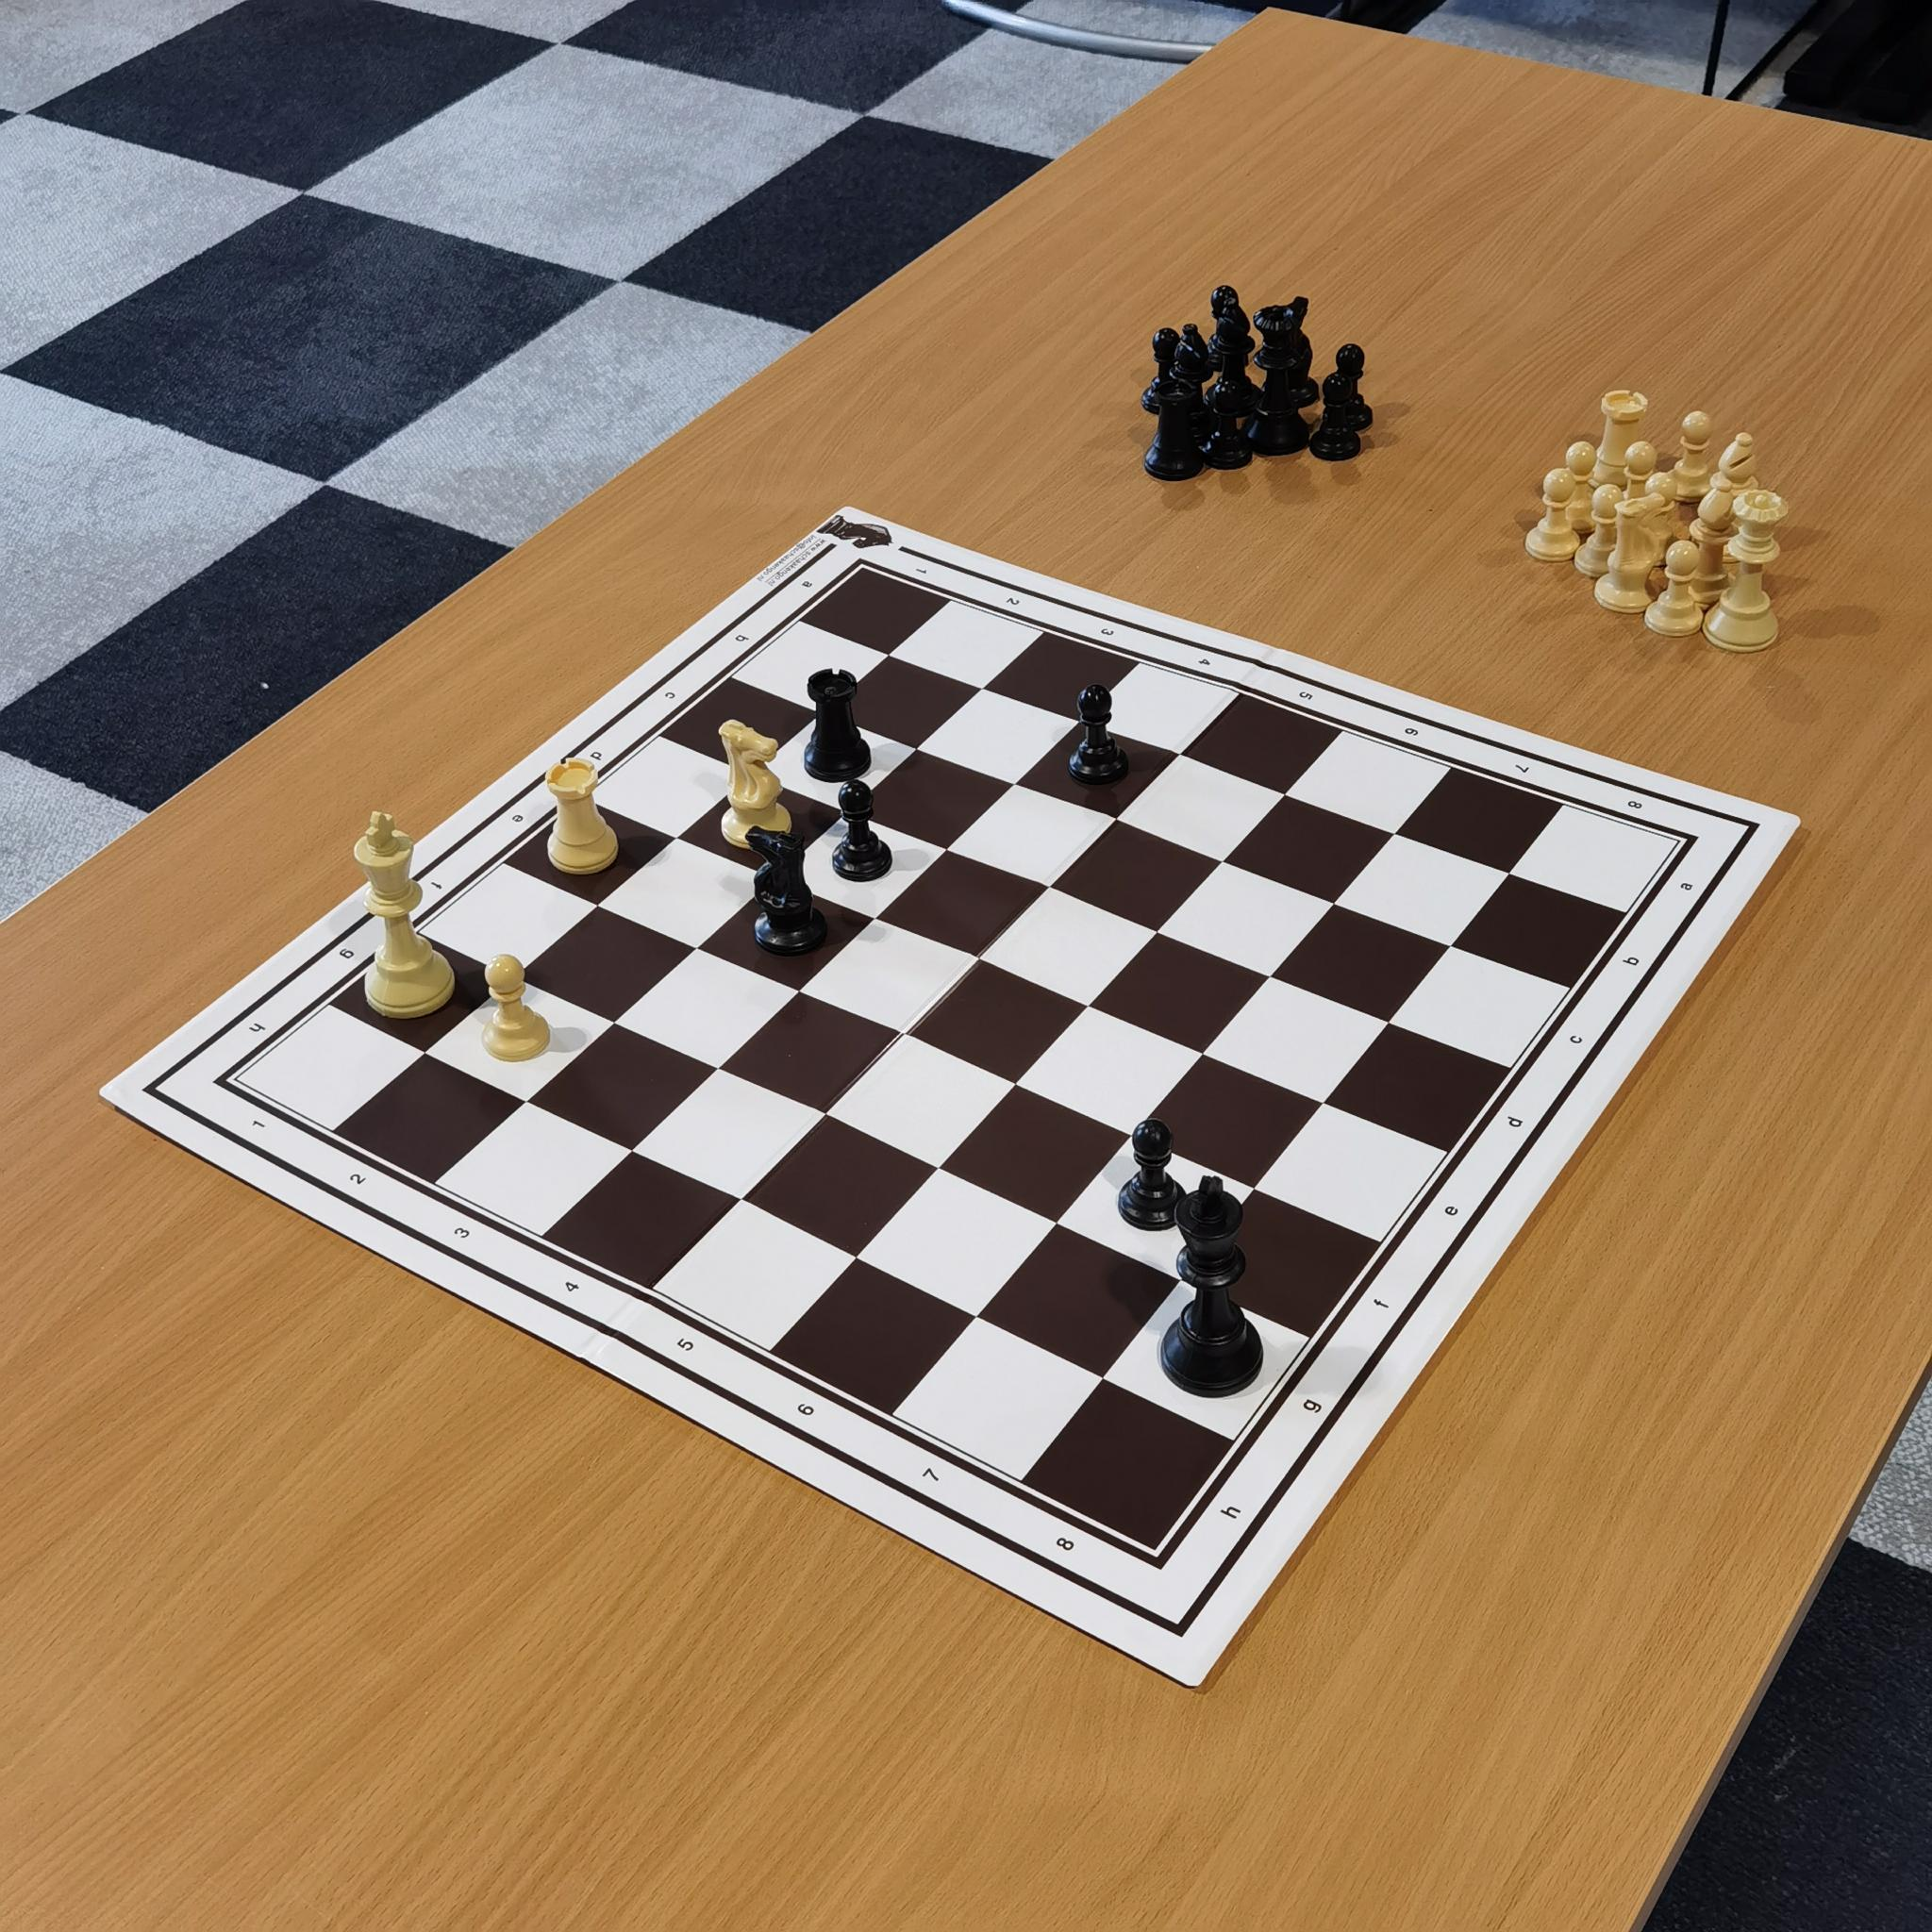corners: (1131, 1537, 1189, 1591), (198, 1058, 257, 1100), (1656, 826, 1713, 867), (839, 548, 886, 589)
eight: (1614, 778, 1661, 826), (1039, 1520, 1090, 1564)
one: (248, 1111, 281, 1141), (908, 554, 941, 584)
